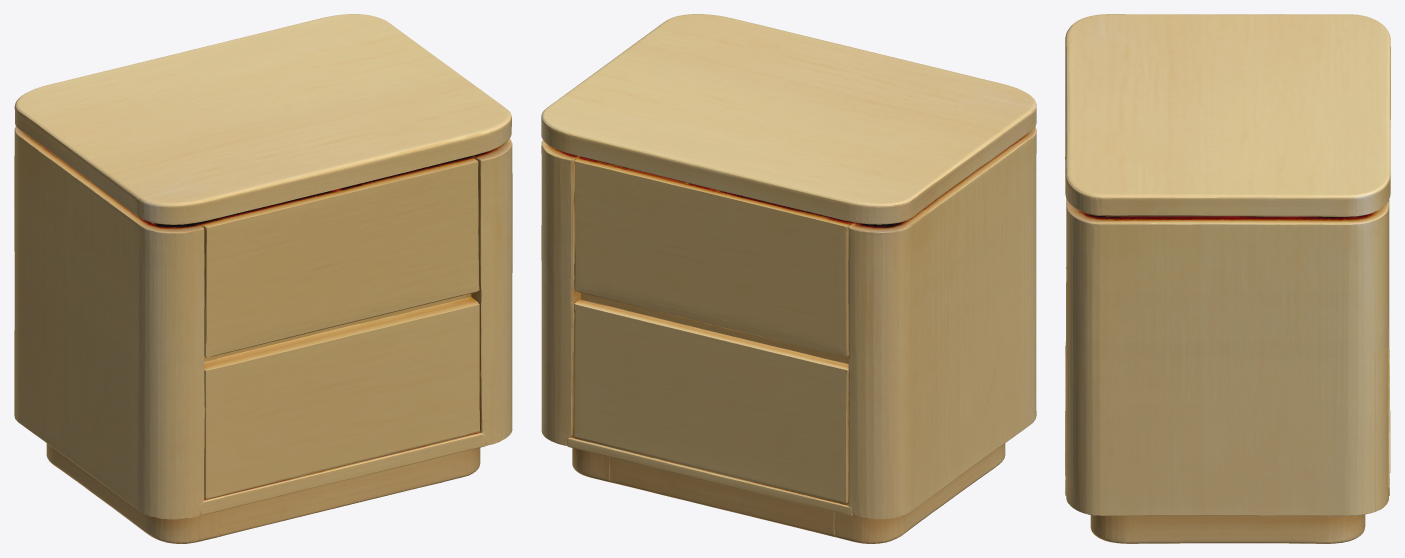
The model's file is BURO MADRID.glb.
The picture shows the model from 3 angles, left to right: view 1: azimuth 30°, elevation 25°; view 2: azimuth 150°, elevation 25°; view 3: azimuth 270°, elevation 25°; orthographic projection.
Parts seen in each view (by area): view 1: world; view 2: world; view 3: world.
Part boxes in pixels (x1,y1,x2,y2): world: (14,14,512,543); world: (541,14,1036,543); world: (1065,14,1390,543).
Size of the model in its own units: 0.6 by 0.55 by 0.45.
Materials: 1 (1 with a texture image).
